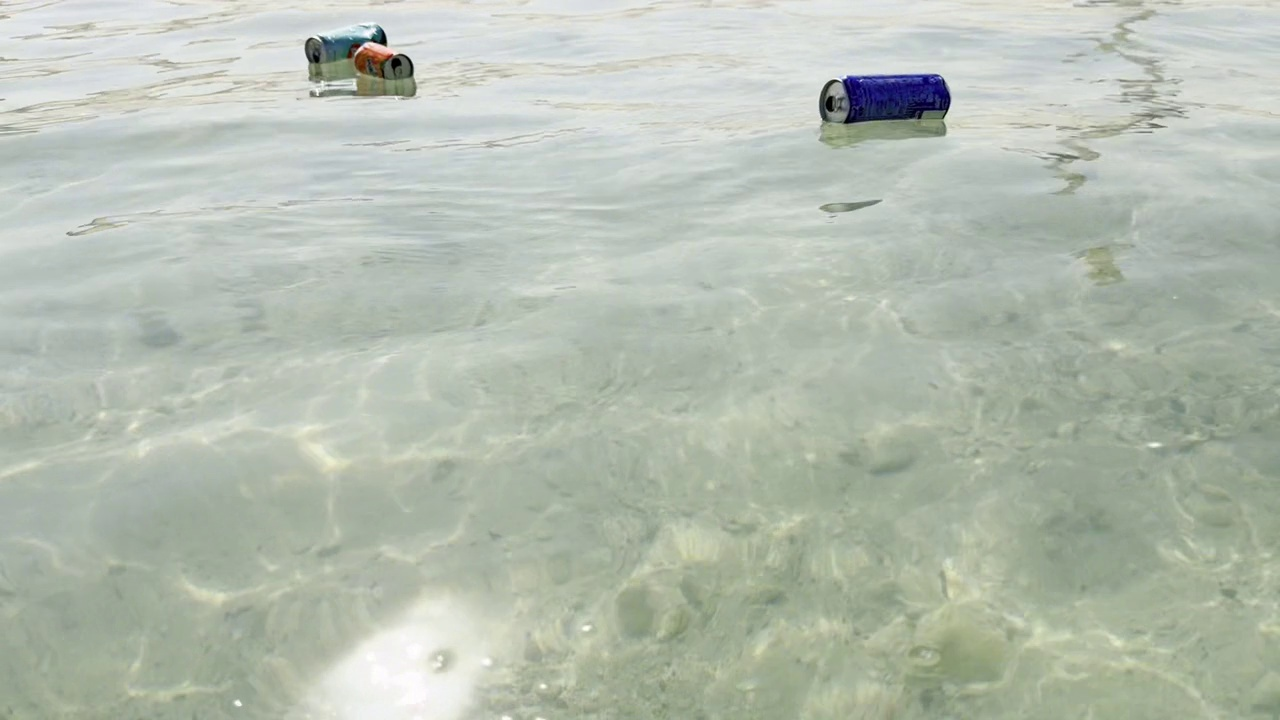debris: (806, 69, 955, 127), (300, 21, 388, 71), (349, 38, 417, 85)
